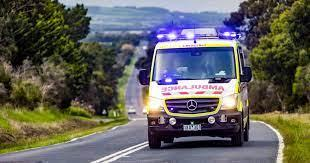ambulance_on: (139, 28, 252, 148)
